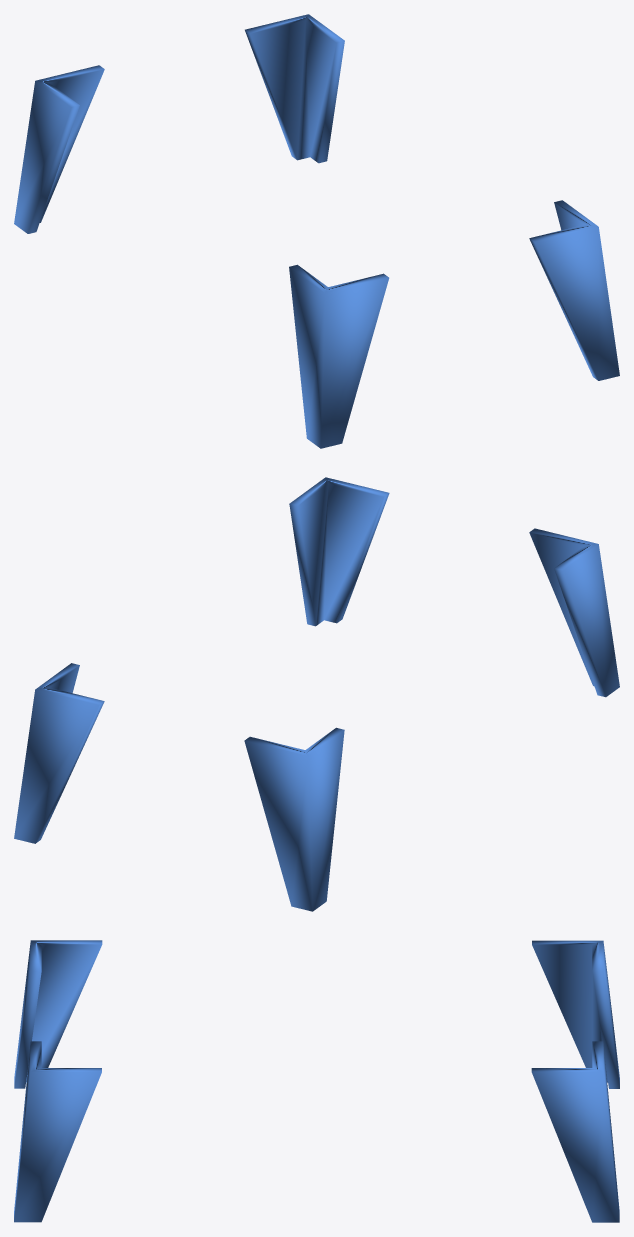
Rendered from table-feet.obj.
The picture shows the model from 3 angles, top to bottom: view 1: azimuth 30°, elevation 25°; view 2: azimuth 150°, elevation 25°; view 3: azimuth 270°, elevation 25°; orthographic projection.
Parts seen in each view (by area): view 1: Rectangle055, Rectangle053, Rectangle054, Rectangle052; view 2: Rectangle052, Rectangle054, Rectangle053, Rectangle055; view 3: Rectangle053, Rectangle054, Rectangle052, Rectangle055.
Part boxes in pixels (bbox=[...]): Rectangle055: bbox=[289, 264, 389, 448]; Rectangle053: bbox=[245, 14, 344, 163]; Rectangle054: bbox=[529, 200, 619, 380]; Rectangle052: bbox=[14, 65, 104, 233]; Rectangle052: bbox=[244, 727, 344, 911]; Rectangle054: bbox=[289, 477, 389, 626]; Rectangle053: bbox=[14, 663, 104, 843]; Rectangle055: bbox=[529, 528, 619, 697]; Rectangle053: bbox=[531, 1041, 619, 1222]; Rectangle054: bbox=[14, 1041, 101, 1222]; Rectangle052: bbox=[532, 940, 619, 1088]; Rectangle055: bbox=[14, 940, 102, 1088].
Bounding box in the file's own units: 58.21 × 27.17 × 103.
